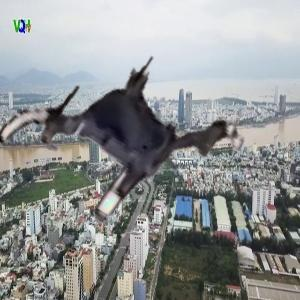drone: (5, 18, 244, 257)
